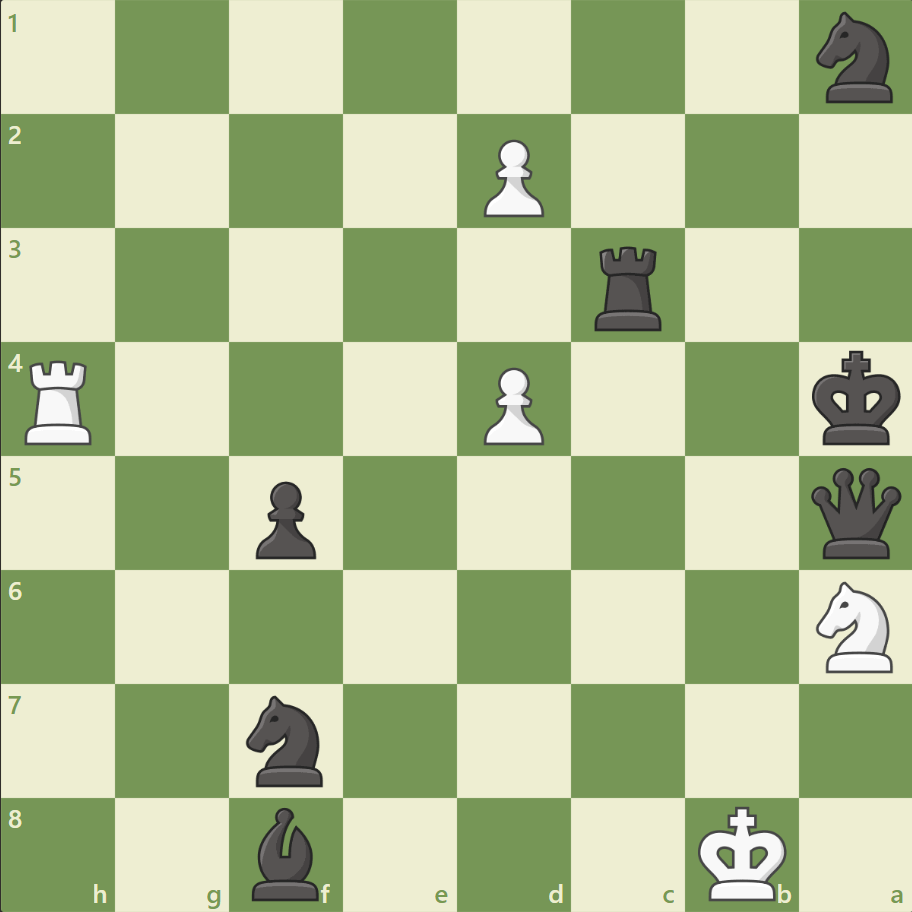K: (692, 798, 792, 906)
N: (806, 575, 903, 677)
P: (474, 359, 549, 450), (474, 132, 549, 223)
R: (19, 352, 102, 449)
b: (244, 801, 328, 904)
k: (806, 344, 906, 452)
n: (238, 688, 335, 791), (806, 7, 903, 110)
p: (247, 473, 322, 564)
q: (805, 463, 904, 562)
r: (587, 239, 670, 336)
